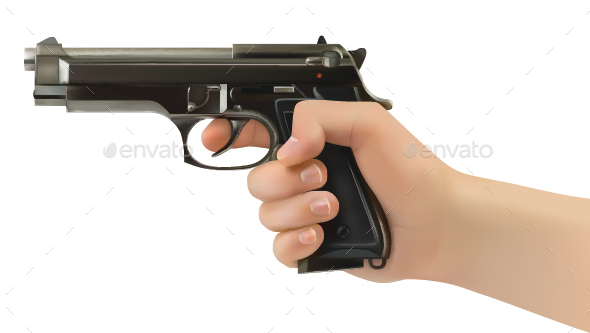pistol: (10, 12, 434, 307)
